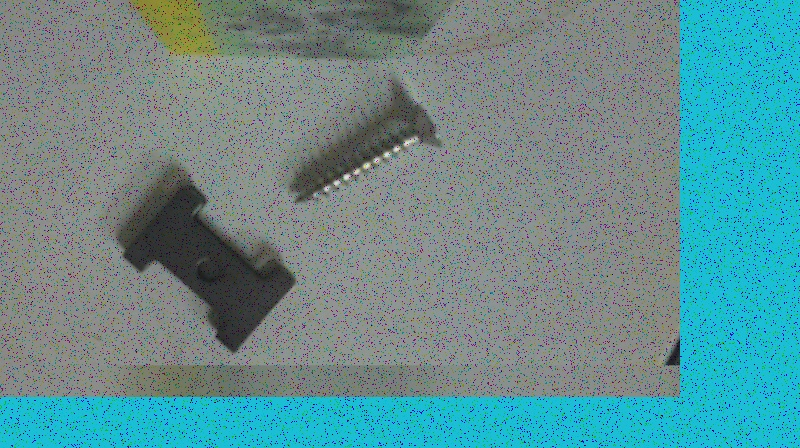O002: (119, 180, 299, 354)
S001: (281, 96, 447, 207)
